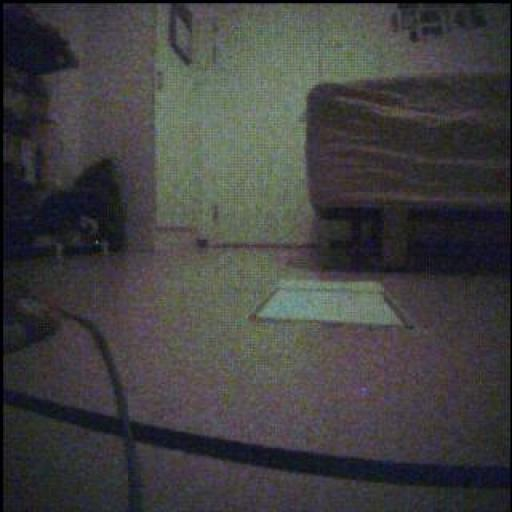pad: (252, 281, 411, 327)
